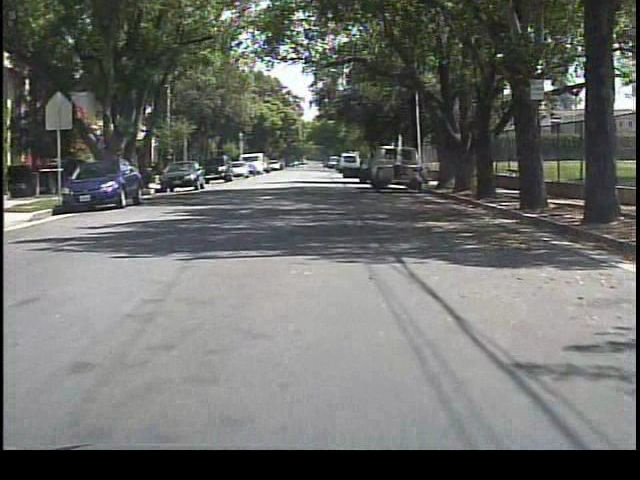person: (356, 159, 372, 187)
